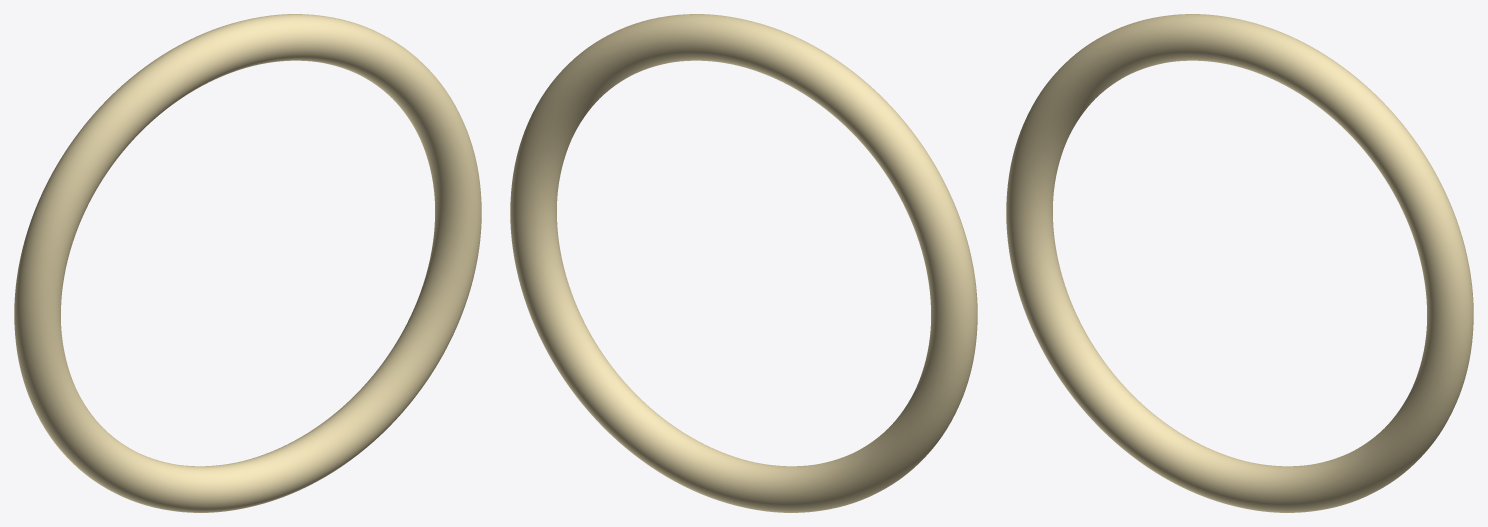
The model's file is eterna-whisper-band.glb.
3 views of the same model, side by side, from view 1: azimuth 30°, elevation 25°; view 2: azimuth 150°, elevation 25°; view 3: azimuth 330°, elevation 25° (orthographic).
Visible parts, largest first — view 1: eterna-whisper-band; view 2: eterna-whisper-band; view 3: eterna-whisper-band.
Part boxes in pixels (x1=…): eterna-whisper-band: x1=14, y1=14, x2=481, y2=512; eterna-whisper-band: x1=510, y1=14, x2=977, y2=512; eterna-whisper-band: x1=1006, y1=14, x2=1473, y2=512.
Size of the model in its own units: 3.06 by 3.06 by 0.2681.
